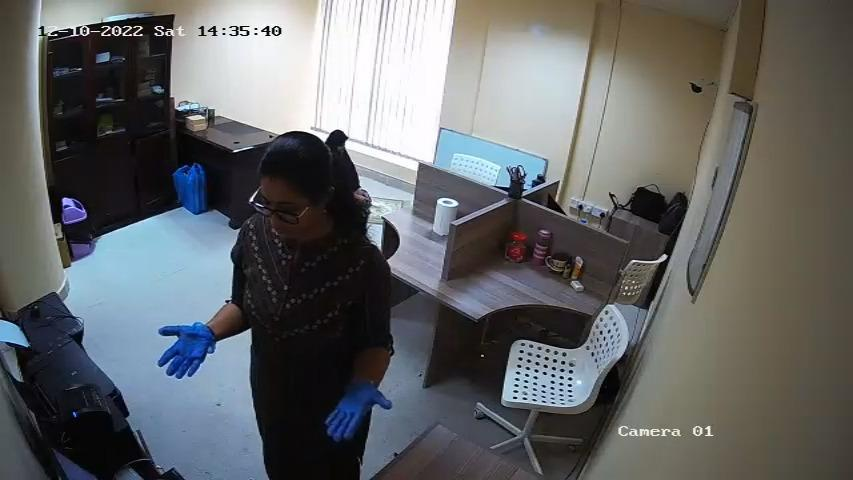gloves: (320, 371, 395, 444), (154, 319, 219, 383)
